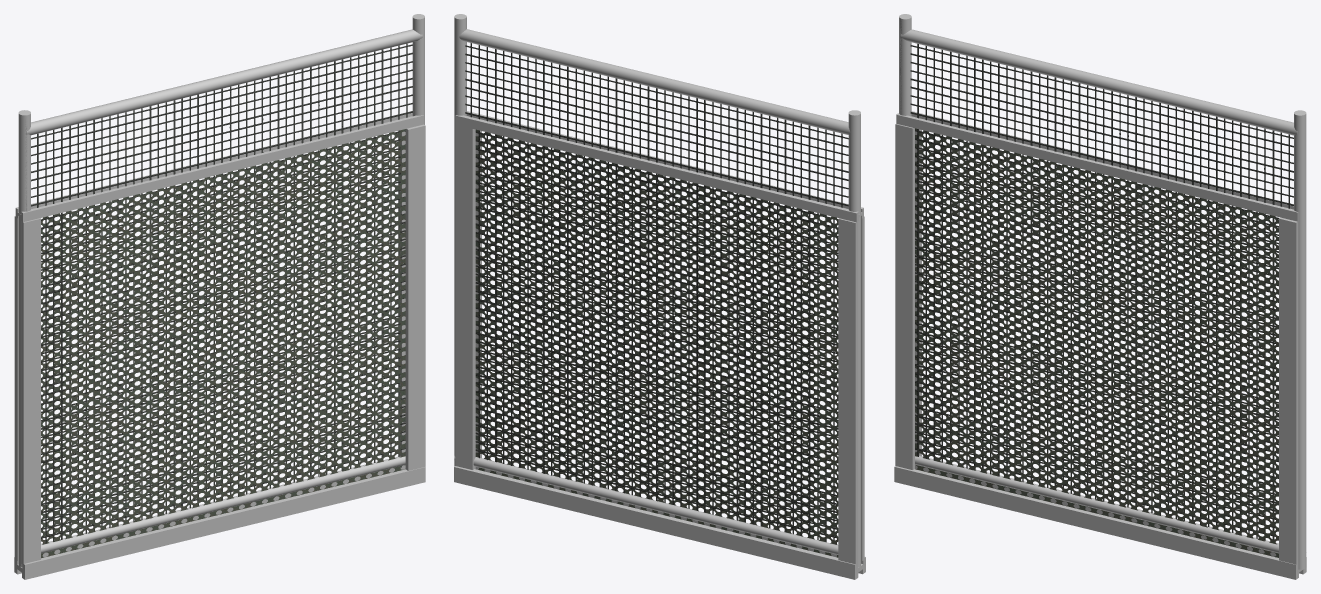
The model's file is Fences.fbx.
The picture shows the model from 3 angles, left to right: view 1: azimuth 30°, elevation 25°; view 2: azimuth 150°, elevation 25°; view 3: azimuth 330°, elevation 25°; orthographic projection.
Parts seen in each view (by area): view 1: Fence_1, Fence_2; view 2: Fence_1, Fence_2; view 3: Fence_1, Fence_2.
Part boxes in pixels (x1,y1,x2,y2): Fence_1: (14,111,425,579); Fence_2: (18,14,424,566); Fence_1: (454,111,865,579); Fence_2: (454,14,860,566); Fence_1: (894,111,1306,579); Fence_2: (899,14,1306,569).
Bounding box in the file's own units: 10.08 × 10.98 × 0.465.
